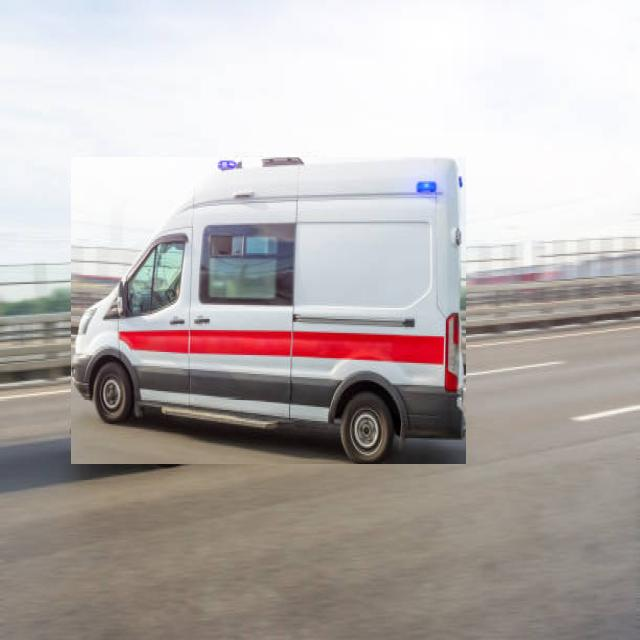emergency: (71, 157, 466, 464)
